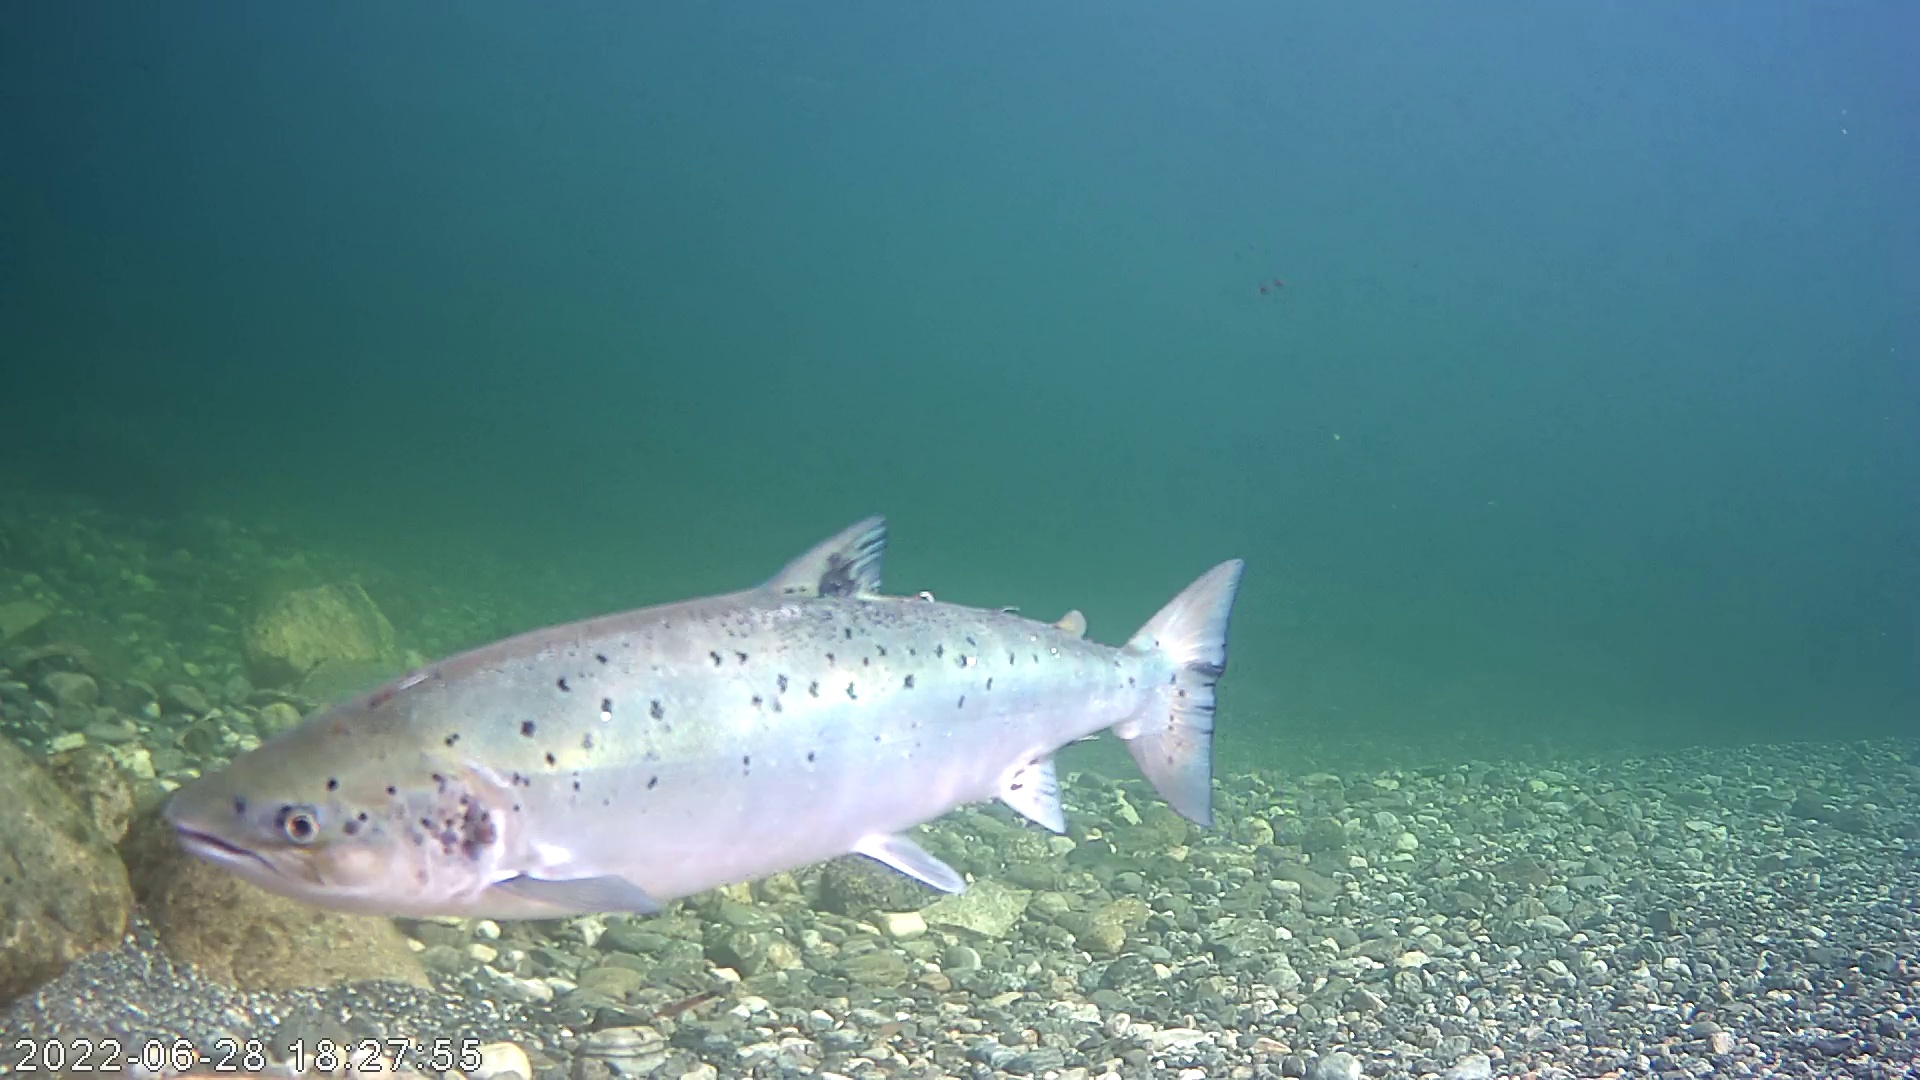salmon: (258, 429, 1265, 943)
